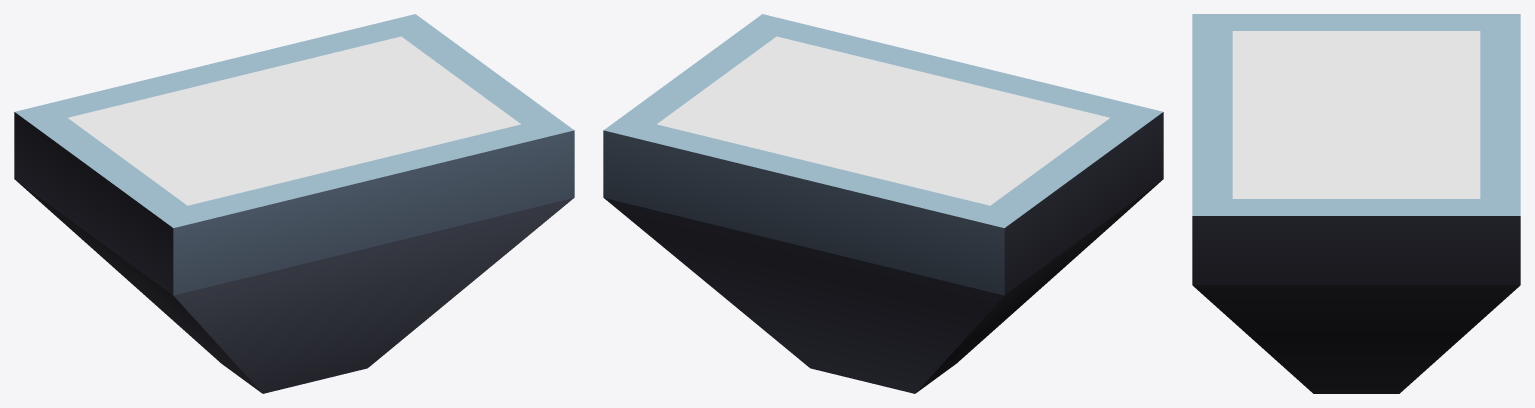
The model's file is yoga_eyebeam_01.FBX.
3 renders of one model, left to right at view 1: azimuth 30°, elevation 25°; view 2: azimuth 150°, elevation 25°; view 3: azimuth 270°, elevation 25°, orthographic. The views are drawn at different scales.
Parts seen in each view (by area): view 1: yoga_eyebeam_01; view 2: yoga_eyebeam_01; view 3: yoga_eyebeam_01.
Part boxes in pixels (bbox=[...]): yoga_eyebeam_01: bbox=[14, 14, 574, 393]; yoga_eyebeam_01: bbox=[603, 14, 1163, 393]; yoga_eyebeam_01: bbox=[1192, 14, 1520, 393].
Bounding box in the file's own units: 25.26 × 14.74 × 17.34.
